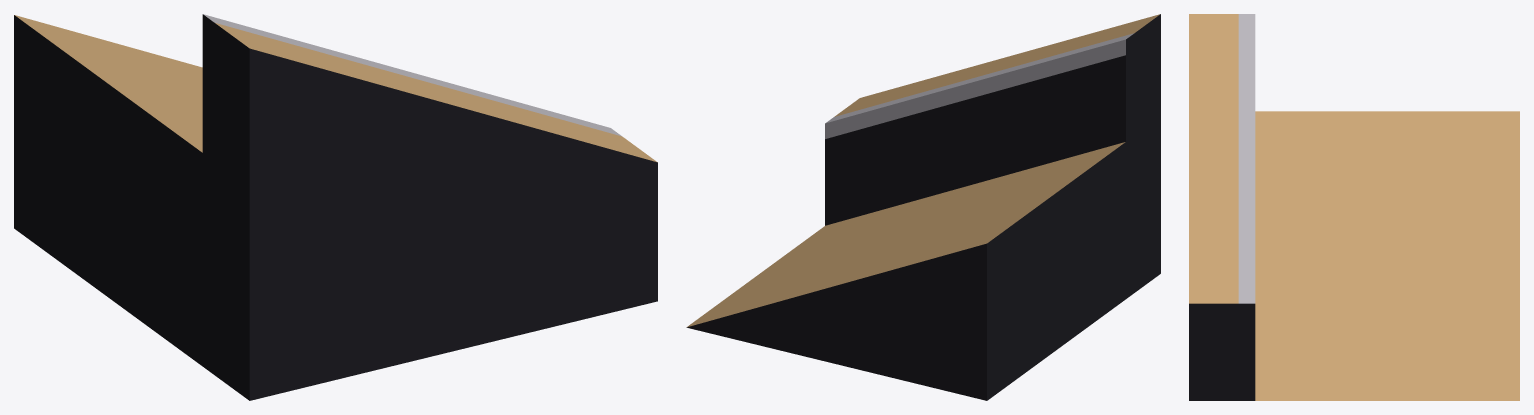
File: Ledge_Ramp_SML_L.fbx
The picture shows the model from 3 angles, left to right: view 1: azimuth 30°, elevation 25°; view 2: azimuth 150°, elevation 25°; view 3: azimuth 270°, elevation 25°; orthographic projection. The views are drawn at different scales.
Parts seen in each view (by area): view 1: Ledge_Ramp_SML_L; view 2: Ledge_Ramp_SML_L; view 3: Ledge_Ramp_SML_L.
Boxes of the visible parts, <box> form: Ledge_Ramp_SML_L: <box>14,14,657,400</box>; Ledge_Ramp_SML_L: <box>686,14,1160,400</box>; Ledge_Ramp_SML_L: <box>1189,14,1519,400</box>.
Size of the model in its own units: 10 by 8.25 by 10.
